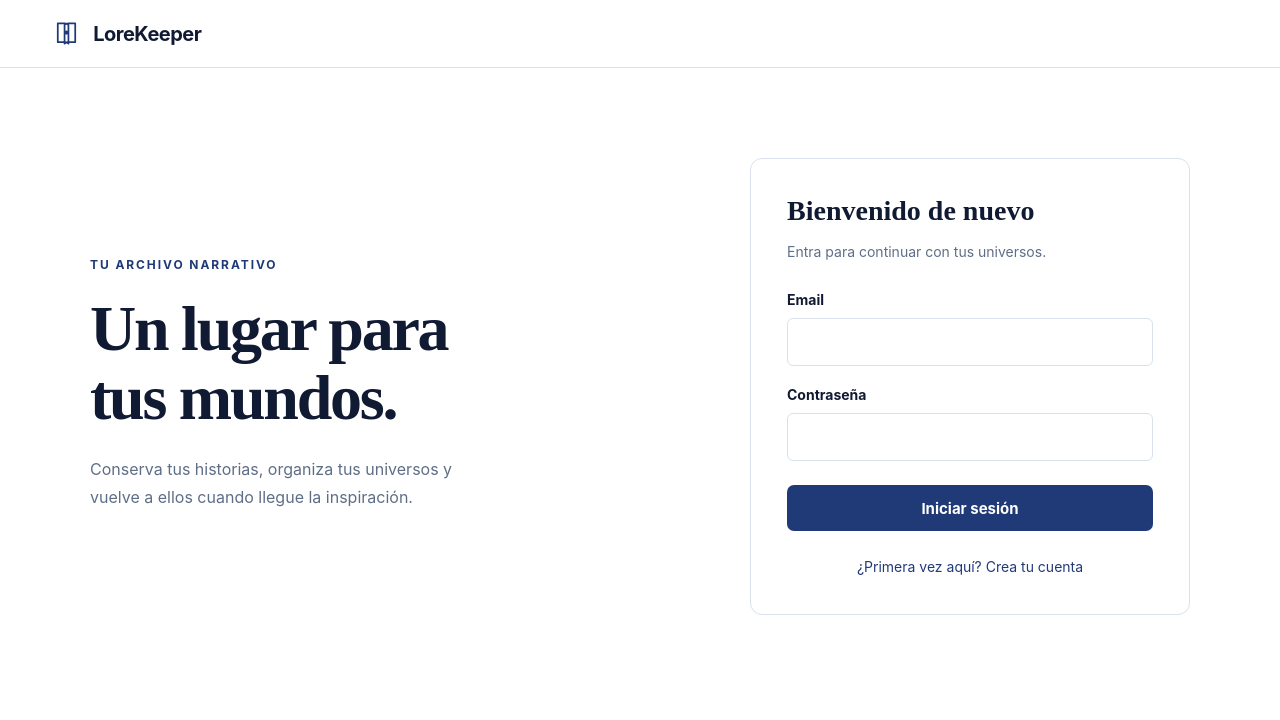
App › shows login, registers and clears private data on logout
Click the button "¿Primera vez aquí? Crea tu cuenta" at {"x": 970, "y": 567}, box [851,555,1089,578]
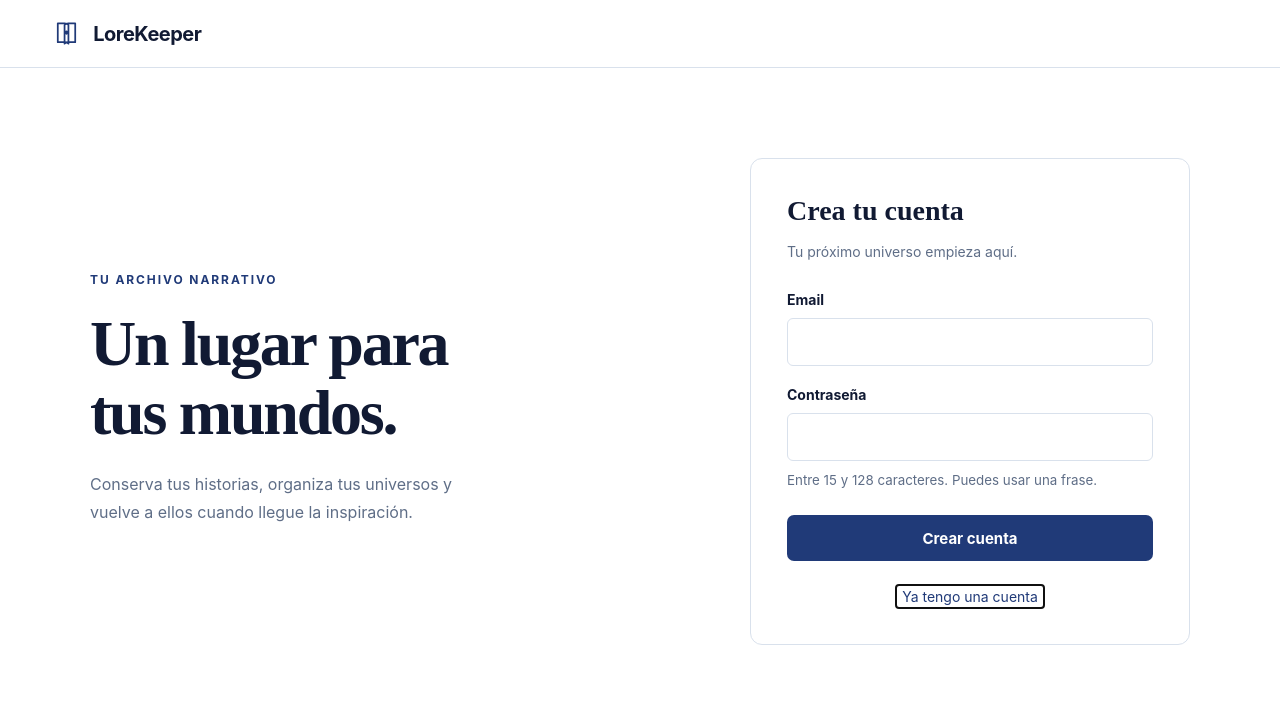
Type "a@example.test" into the field labelled "Email" at {"x": 970, "y": 342}, box [787,318,1153,366]
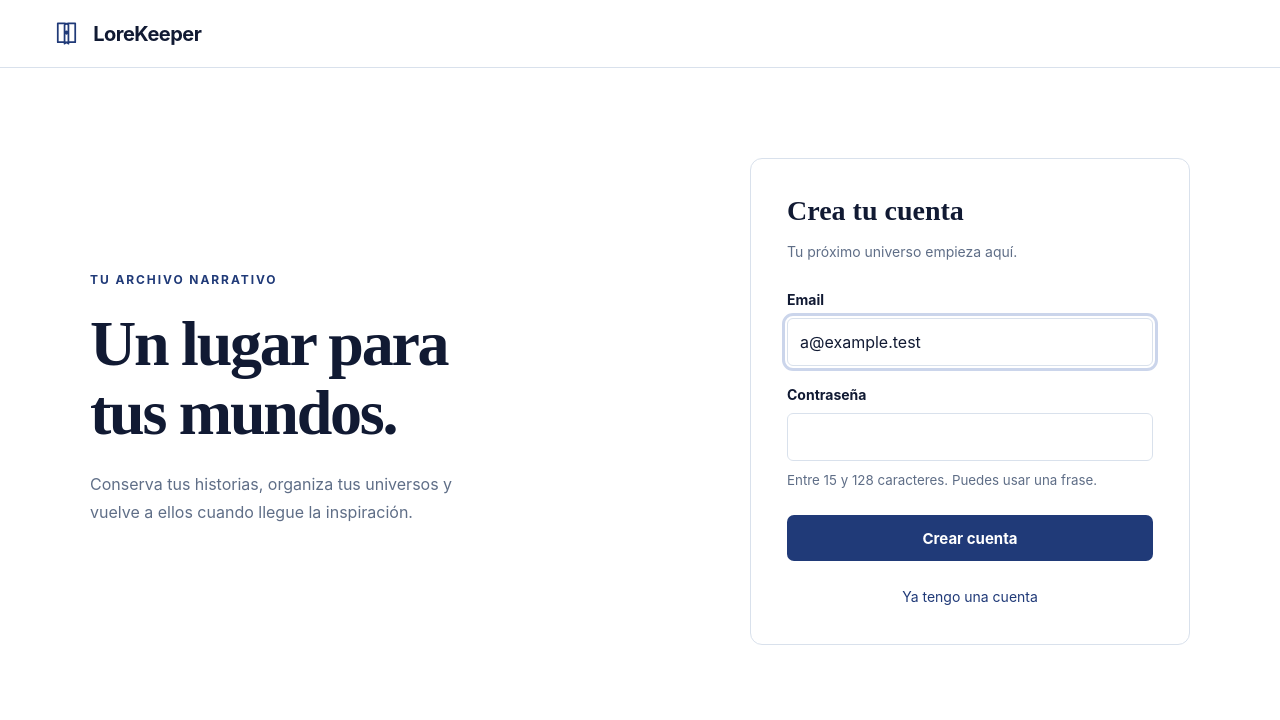
Type "A long test passphrase" into the password field labelled "Contraseña" at {"x": 970, "y": 437}, box [787,413,1153,461]
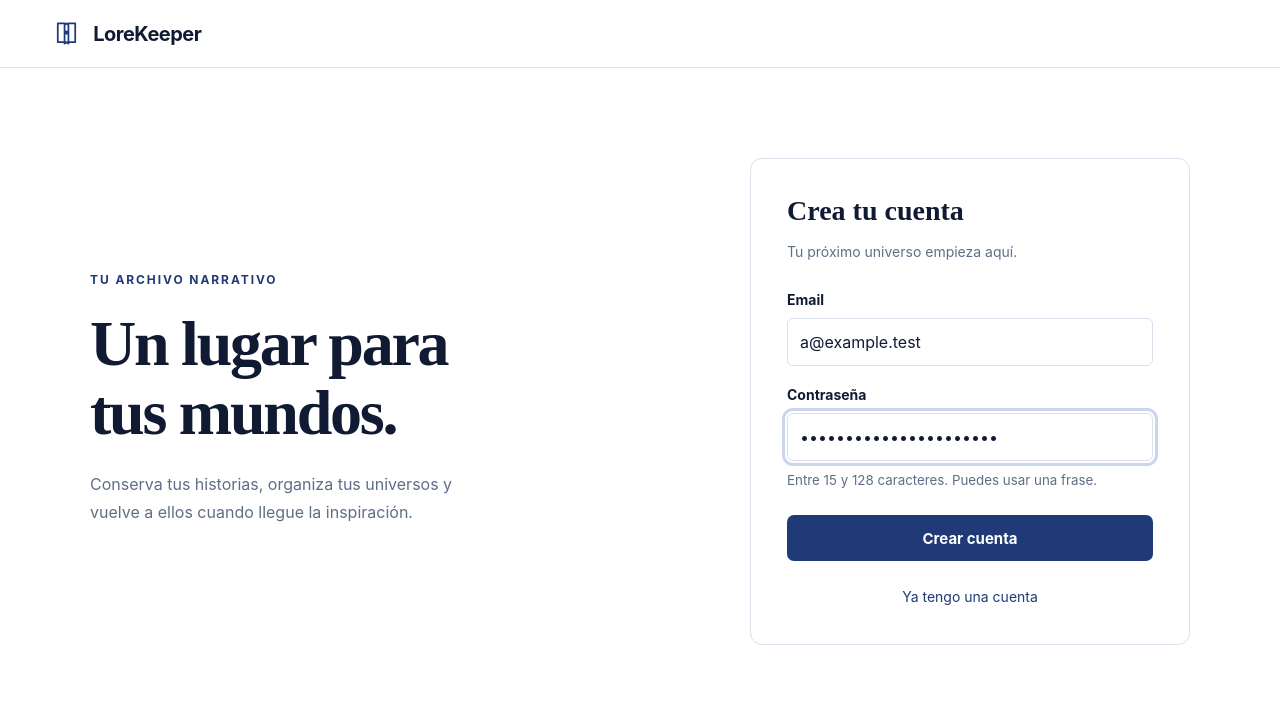
Click the button "Crear cuenta" at {"x": 970, "y": 538}, box [787,515,1153,561]
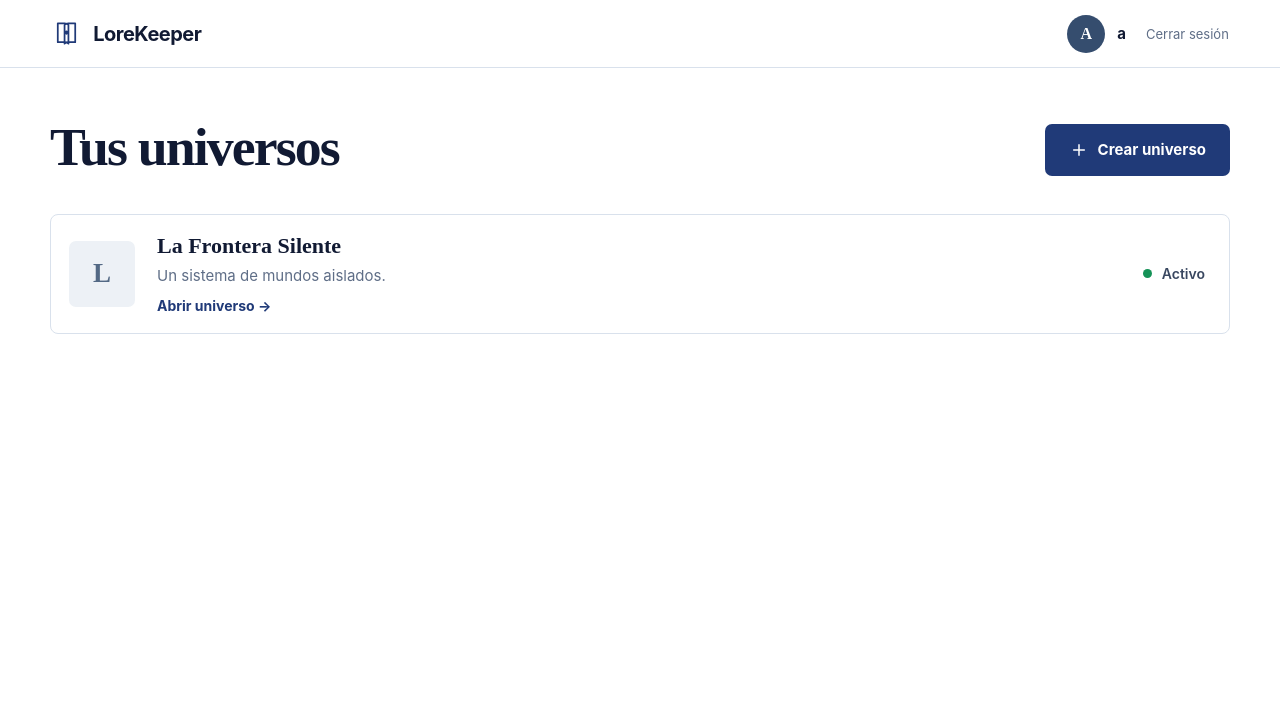
Expected: the heading "La Frontera Silente" is shown, [157,233,341,258]
Click the button "Cerrar sesión" at {"x": 1183, "y": 34}, box [1138,20,1229,48]
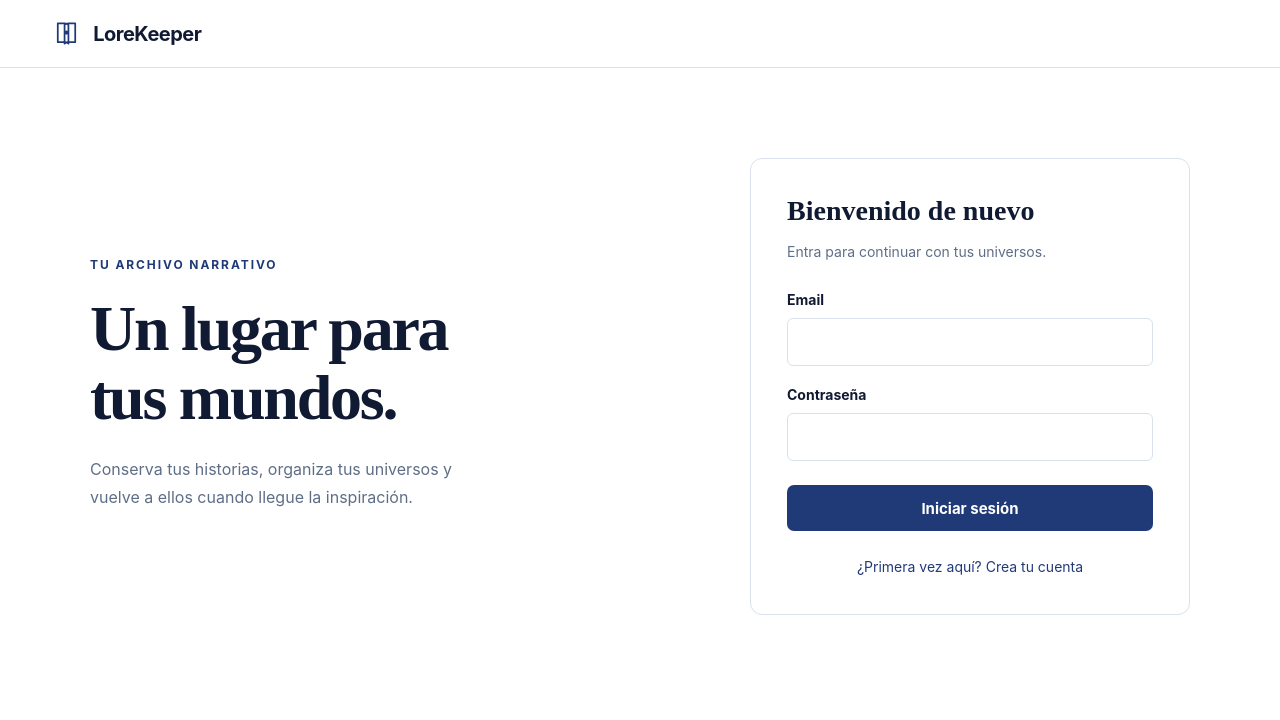
Expected: the button "Iniciar sesión" is shown, [787,485,1153,531]
Expected: the heading "La Frontera Silente" is gone
